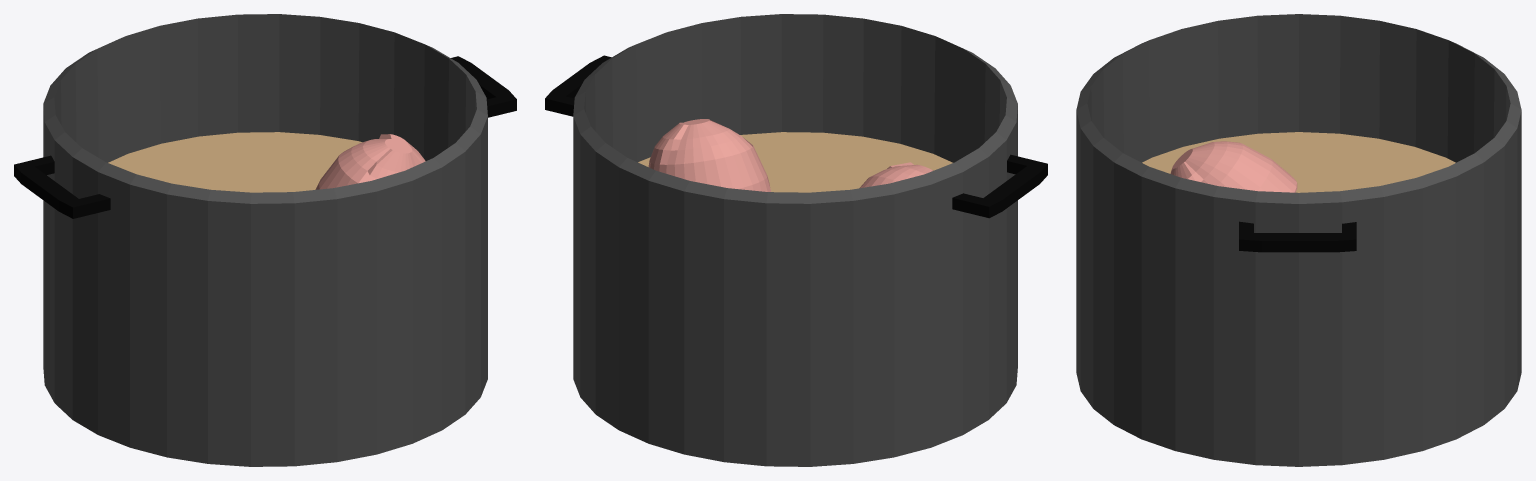
File: Adobong Puti 1st Stage.fbx
The picture shows the model from 3 angles, left to right: view 1: azimuth 30°, elevation 25°; view 2: azimuth 150°, elevation 25°; view 3: azimuth 270°, elevation 25°; orthographic projection.
Visible parts, largest first — view 1: Cylinder, Liquid, Cylinder.001; view 2: Cylinder, Liquid, Cylinder.001, Cylinder.002; view 3: Cylinder, Liquid, Cylinder.002.
Part boxes in pixels (box(x1,y1,x2,y2)): Cylinder: box(14, 14, 516, 466); Liquid: box(108, 132, 362, 192); Cylinder.001: box(315, 134, 425, 189); Cylinder: box(545, 14, 1047, 466); Liquid: box(638, 132, 952, 192); Cylinder.001: box(648, 119, 770, 191); Cylinder.002: box(859, 162, 933, 188); Cylinder: box(1076, 14, 1521, 466); Liquid: box(1142, 132, 1455, 192); Cylinder.002: box(1170, 141, 1297, 192).
Size of the model in its own units: 79.81 by 47.71 by 68.44.
